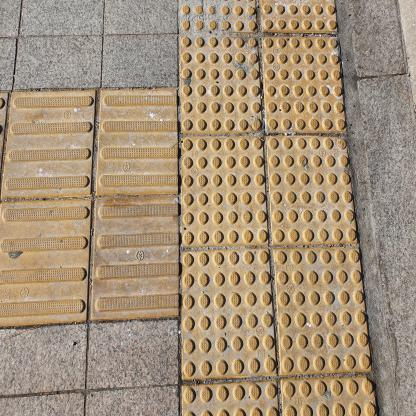podotacti: (173, 0, 381, 415), (0, 81, 180, 332)
